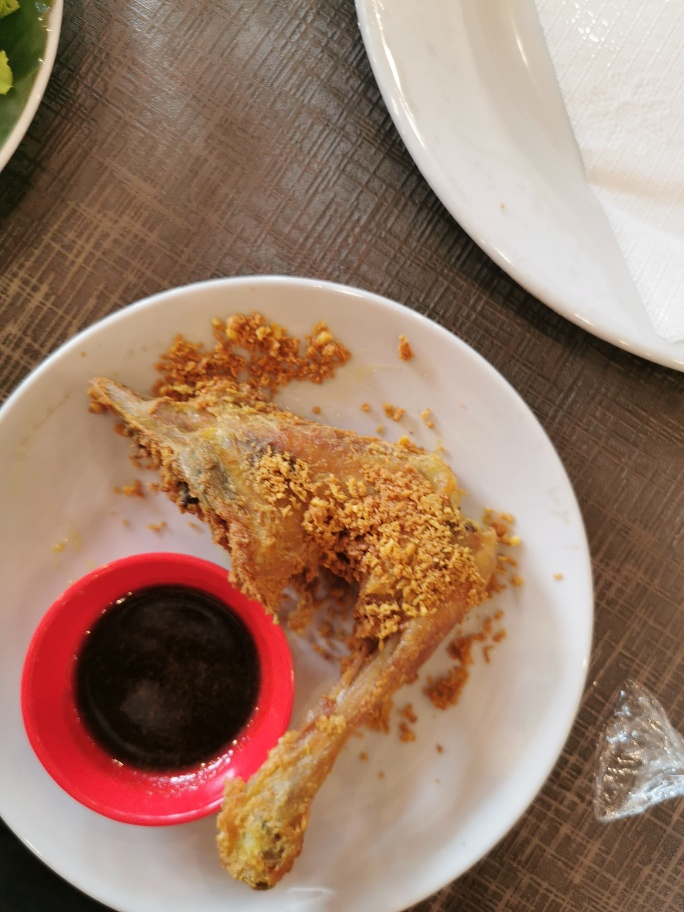ayam goreng: (68, 340, 503, 893)
kecap: (19, 552, 297, 828)
